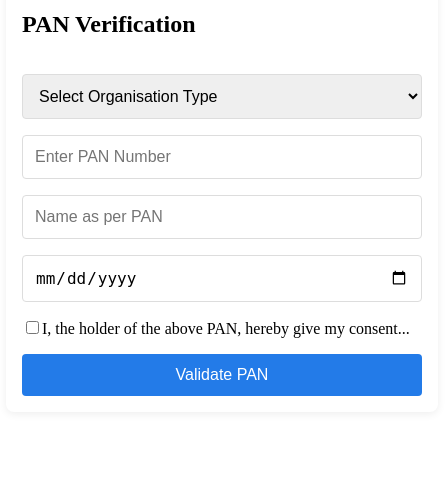
Test: FormStep2 › shows error for invalid PAN number
Note: ← Add this to bypass the organisation-type check
Select "Proprietorship" in the dropdown named "Select Organisation Type" at {"x": 222, "y": 96}, box [22, 74, 422, 119]
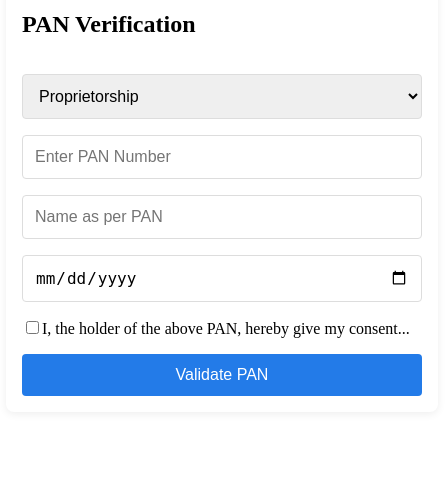
Type "BADPAN" into the field with placeholder "Enter PAN Number" at {"x": 222, "y": 157}, box [22, 135, 422, 179]
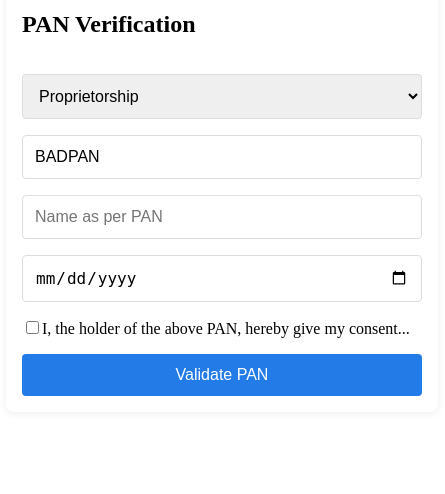
Click the button "Validate PAN" at {"x": 222, "y": 375}, box [22, 354, 422, 396]
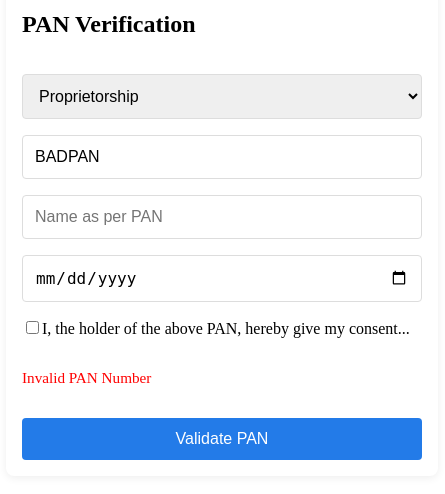
Expected: the text "Invalid PAN Number" is shown, [22, 369, 151, 386]
